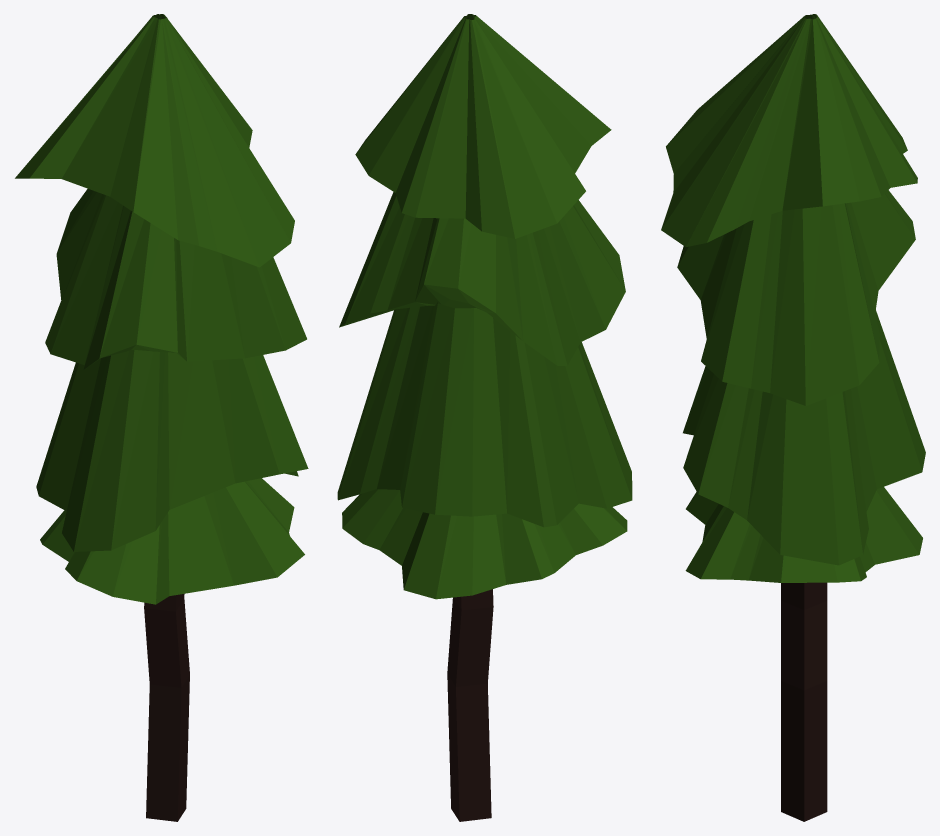
The model's file is SM_tree_conifer_04.FBX.
3 renders of one model, left to right at view 1: azimuth 30°, elevation 25°; view 2: azimuth 150°, elevation 25°; view 3: azimuth 270°, elevation 25°, orthographic.
Visible parts, largest first — view 1: Object046; view 2: Object046; view 3: Object046.
Boxes of the visible parts, <box> form: Object046: <box>15,14,308,821</box>; Object046: <box>337,14,632,821</box>; Object046: <box>661,14,925,821</box>.
Bounding box in the file's own units: 340 × 1046 × 316.
